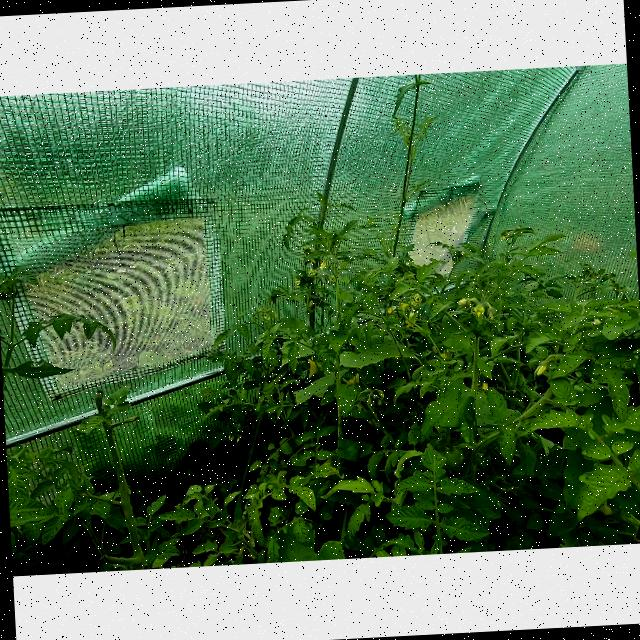Flowers: (307, 358, 322, 378), (402, 312, 418, 329), (535, 362, 551, 377), (345, 373, 359, 388), (409, 295, 423, 309), (473, 304, 485, 318), (588, 318, 602, 326), (306, 300, 316, 311), (398, 301, 408, 310), (457, 298, 468, 306), (385, 306, 394, 315), (319, 260, 326, 270)
